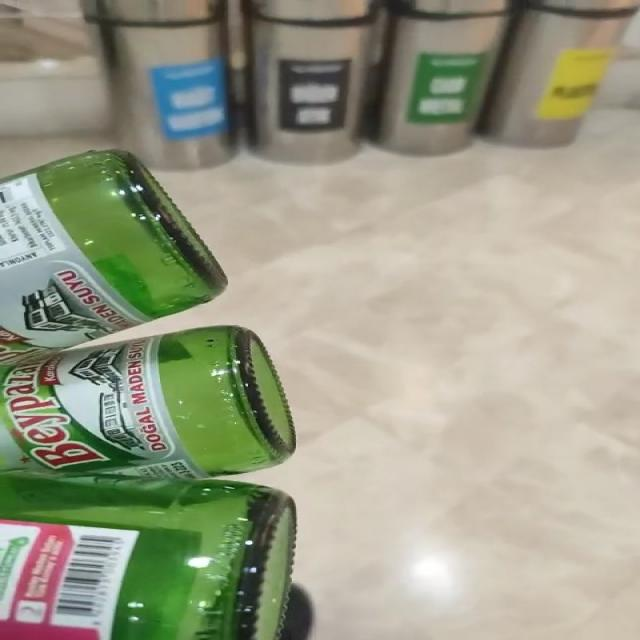glass: (0, 149, 299, 640)
